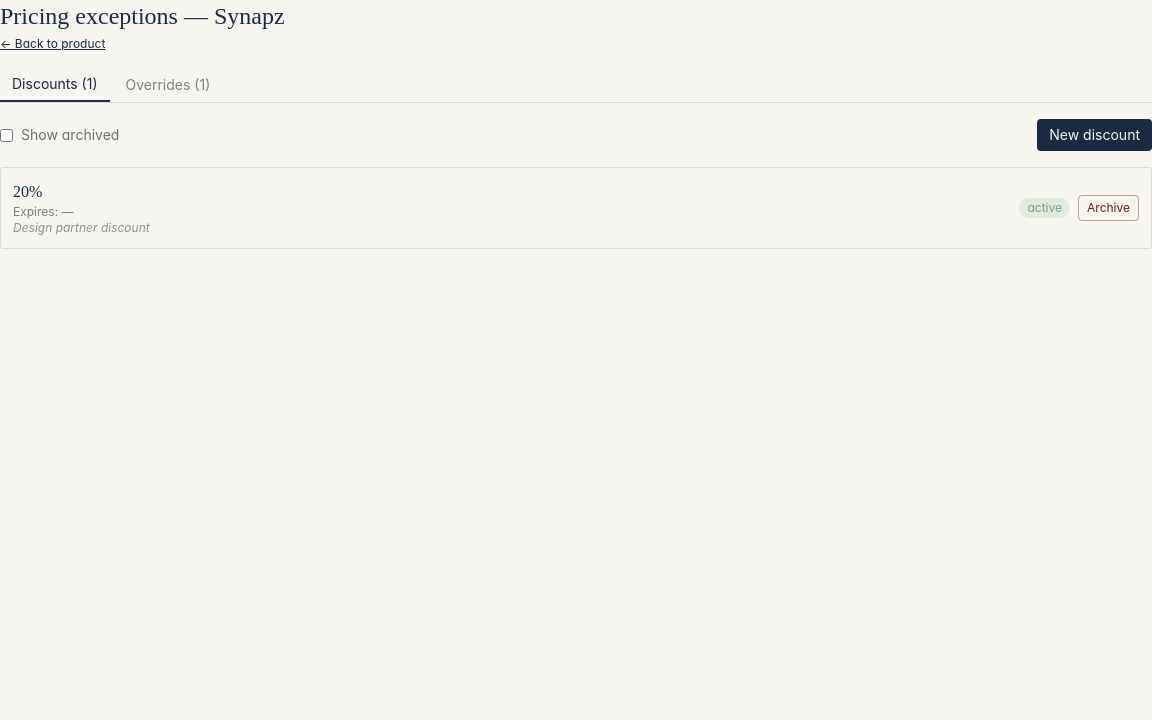
it: PricingExceptionsManager (HUB-1657) › New Discount modal rejects a percentage above 100
expect the element with test id "exceptions-manager-page" is shown: met, box [0,0,1151,249]
Click the button with test id "exceptions-new-discount" at (1095, 135), box [1037,119,1151,151]
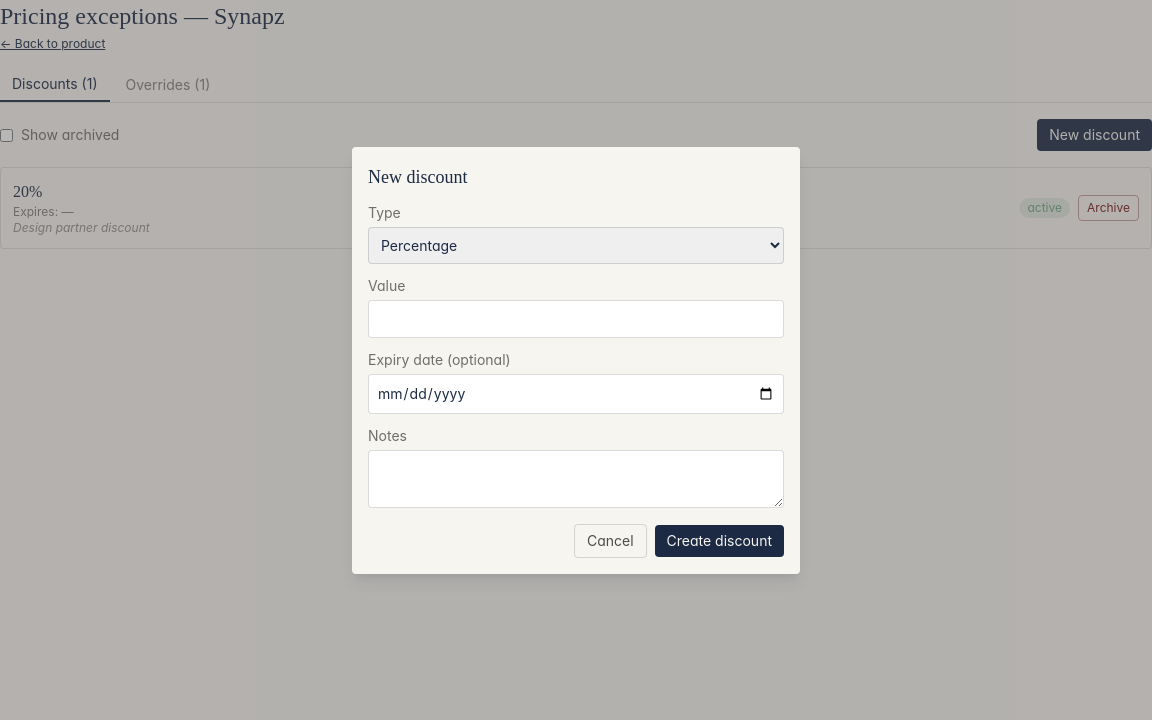
Type "150" into the field with test id "new-discount-value" at (576, 318), box [368,300,784,338]
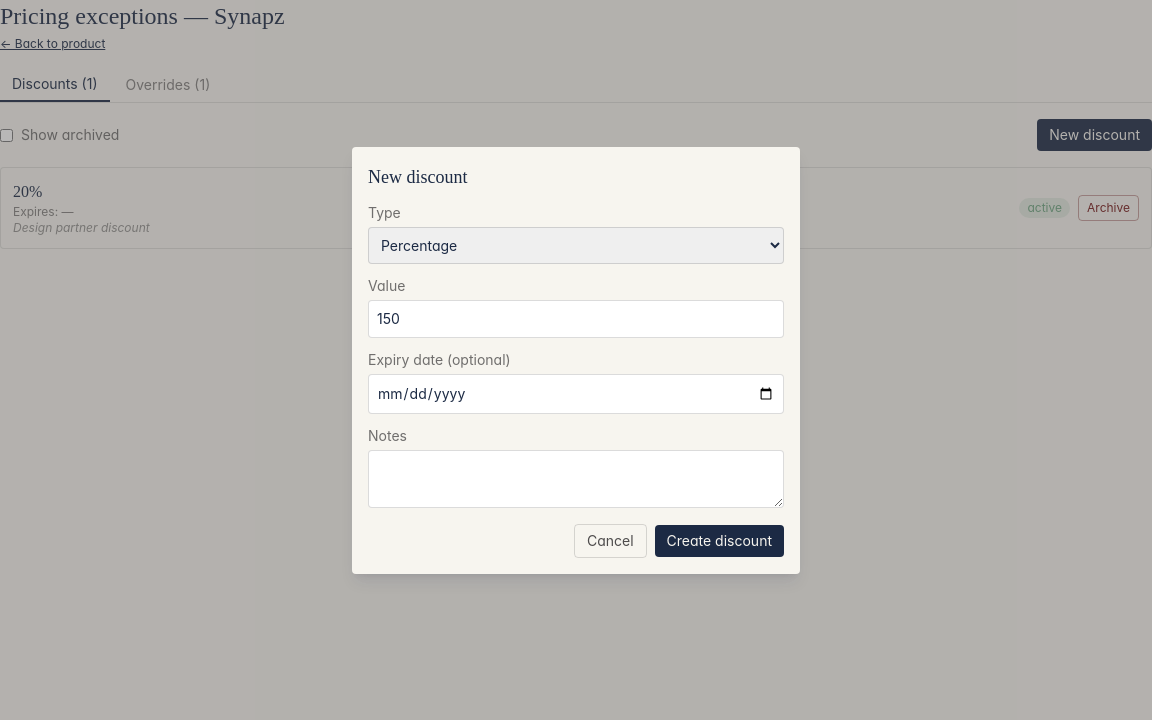
Click the button with test id "new-discount-submit" at (719, 540), box [655,524,784,556]
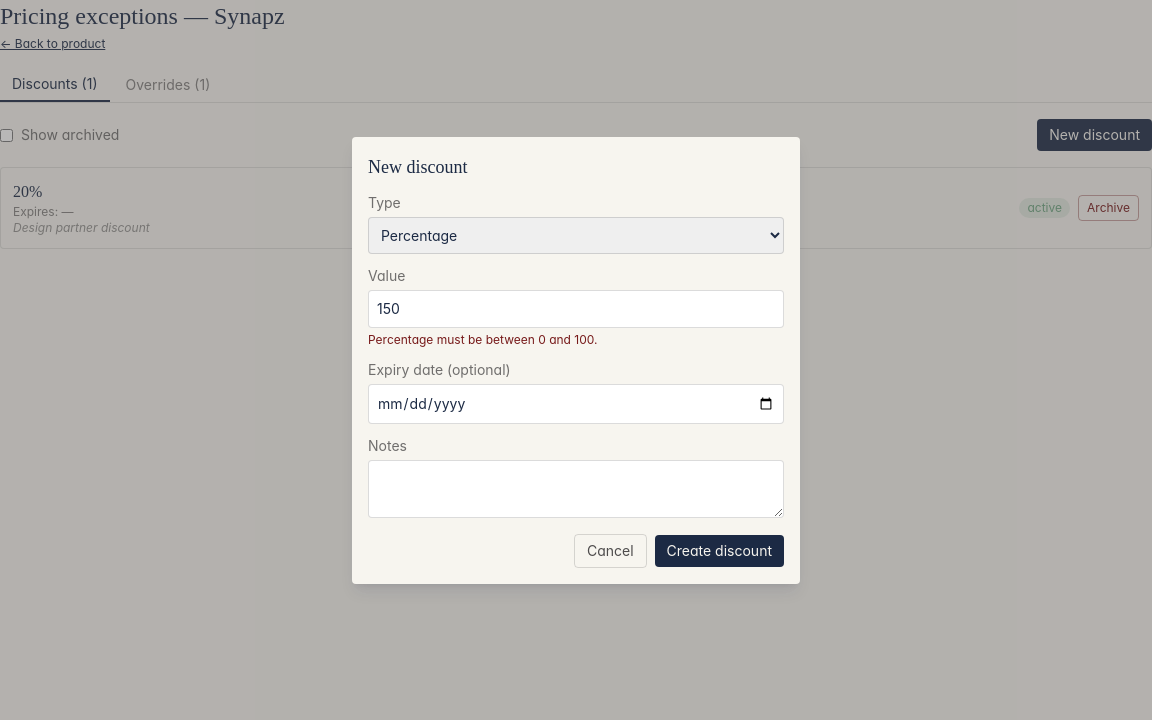
expect the text "Percentage must be between 0 and 100." is shown: met, box [368,332,598,346]
